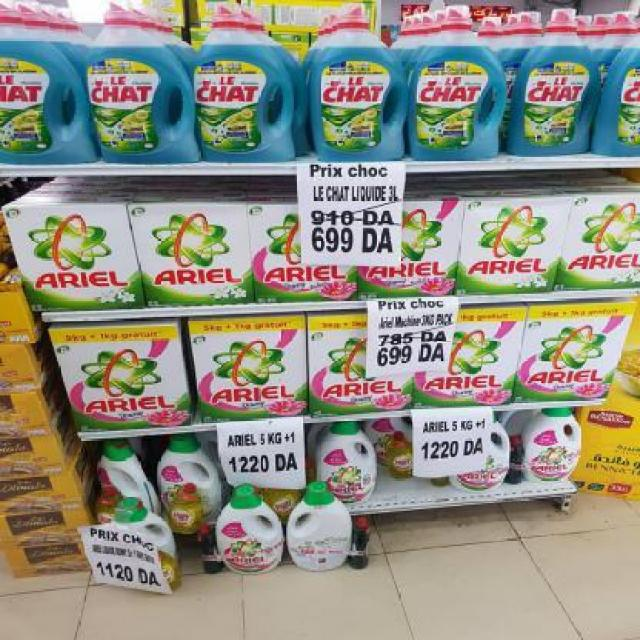Detergent: (3, 198, 139, 316), (52, 322, 192, 430), (188, 311, 314, 423), (305, 306, 413, 419), (142, 196, 248, 309), (518, 295, 622, 403), (458, 192, 558, 298), (418, 308, 514, 407), (310, 322, 407, 413), (422, 313, 516, 405), (554, 194, 638, 292), (209, 484, 283, 576), (315, 414, 383, 504), (522, 405, 584, 486)
